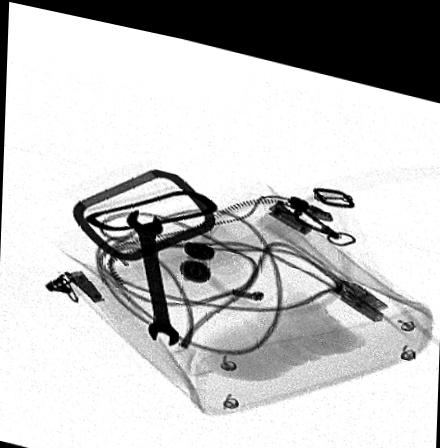Wrench: (124, 200, 179, 340)
